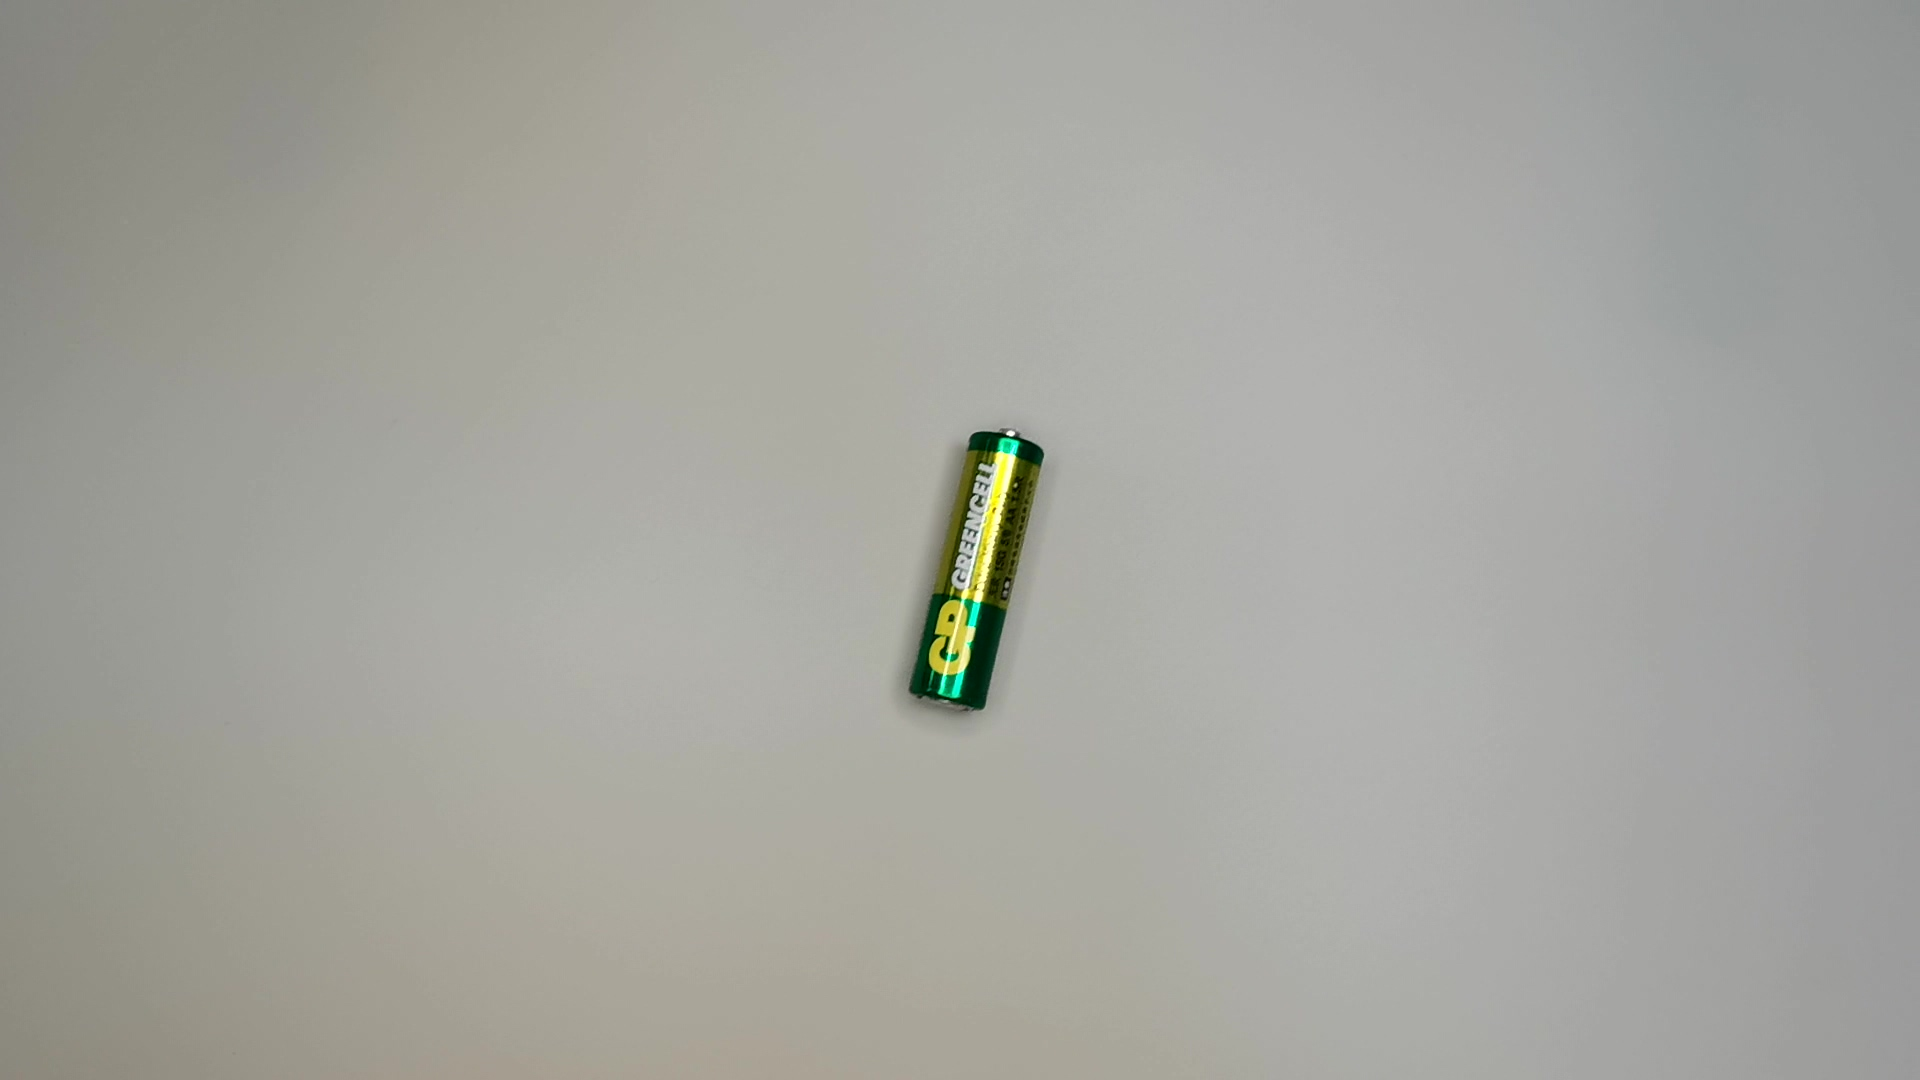battery: (899, 419, 1044, 723)
